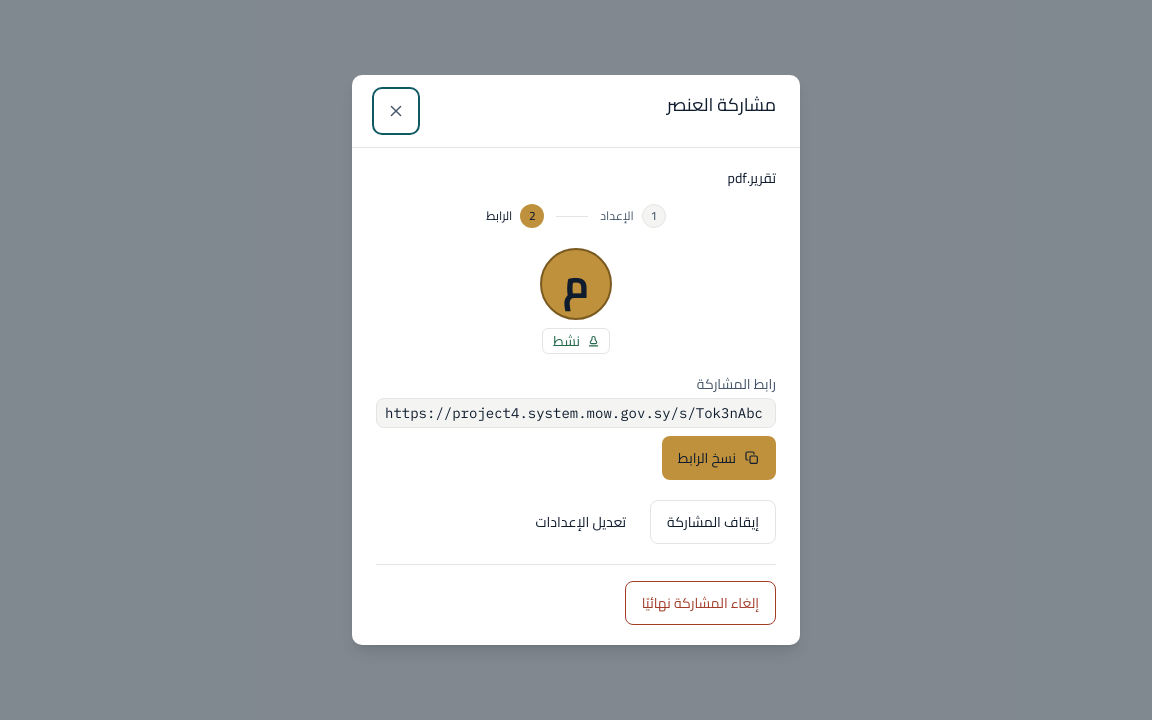
Test: ShareModal — download limit (creator console, §4 / §9) › the destructive delete warning shows by default and disappears when Stop is chosen
Click the button "تعديل الإعدادات" at (581, 522), box [520,500,642,544]
(page scrolled)
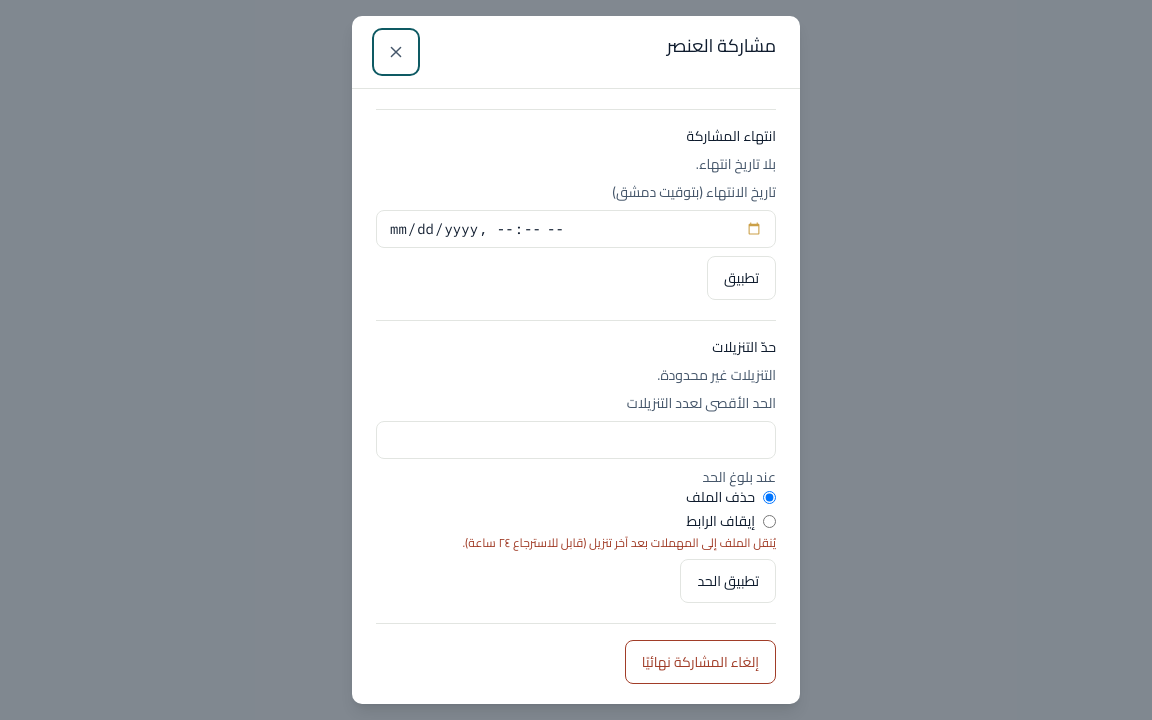
Now the text "يُنقل الملف إلى المهملات بعد آخر تنزيل (قابل للاسترجاع ٢٤ ساعة)." is shown, box [462,531,776,554]
Click the radio button labelled "إيقاف الرابط" at (770, 521), box [763,514,776,528]
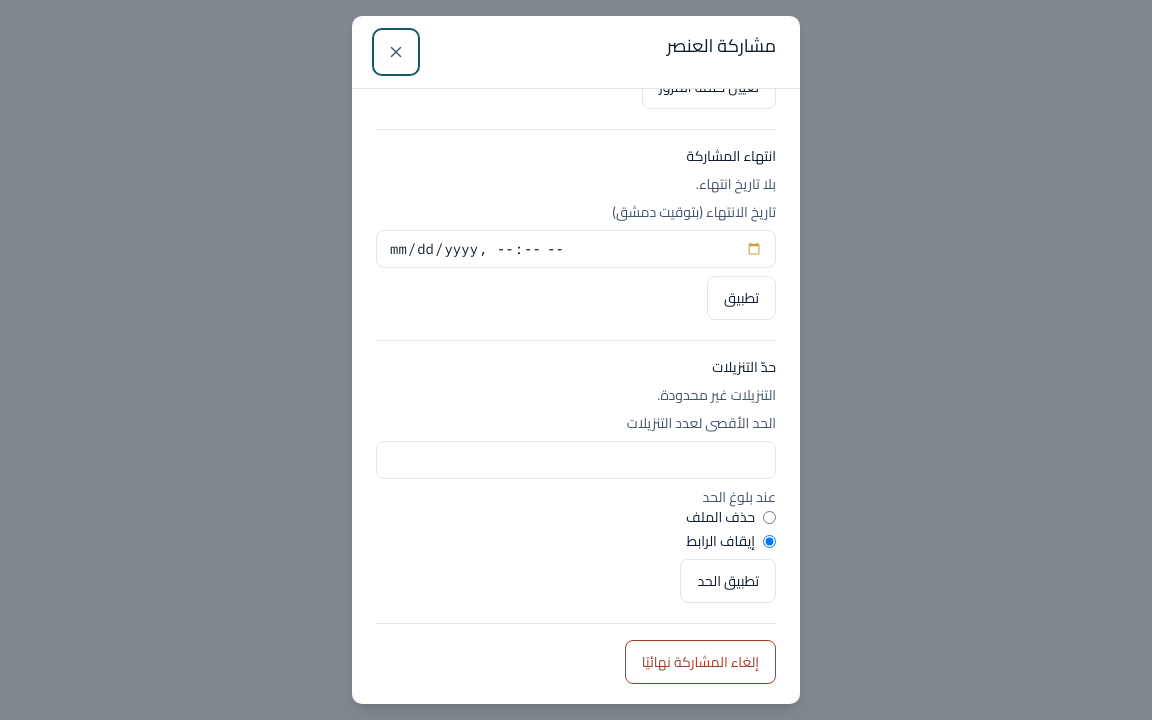
Now the text "يُنقل الملف إلى المهملات بعد آخر تنزيل (قابل للاسترجاع ٢٤ ساعة)." is gone
